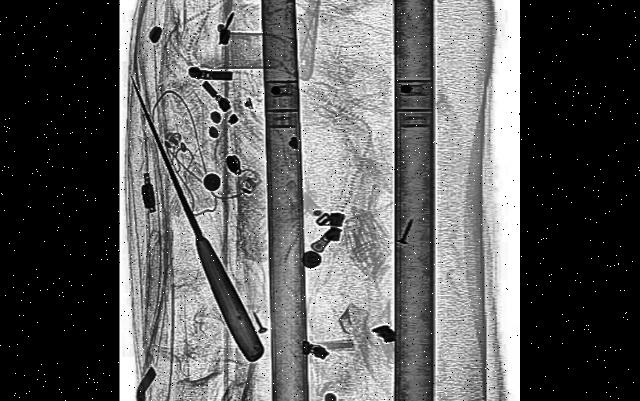Knife: (121, 66, 268, 371)
